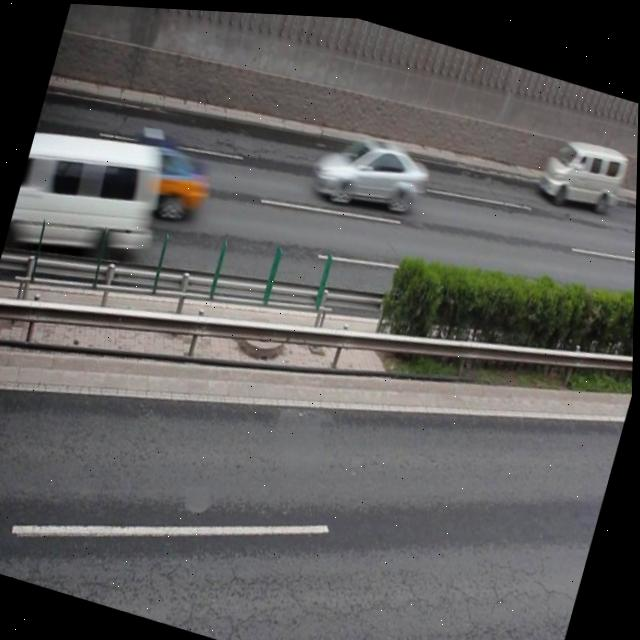car: (304, 112, 435, 224), (91, 122, 220, 232)
truck: (4, 108, 172, 284), (532, 122, 631, 212)
